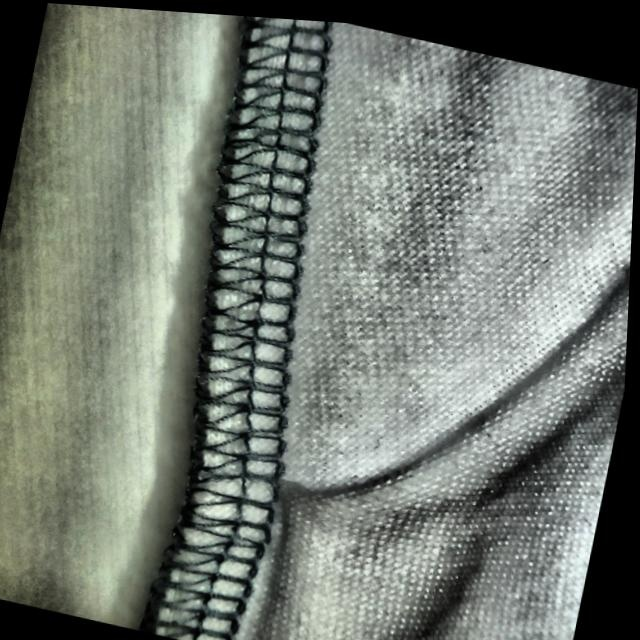seam: (124, 404, 411, 631)
